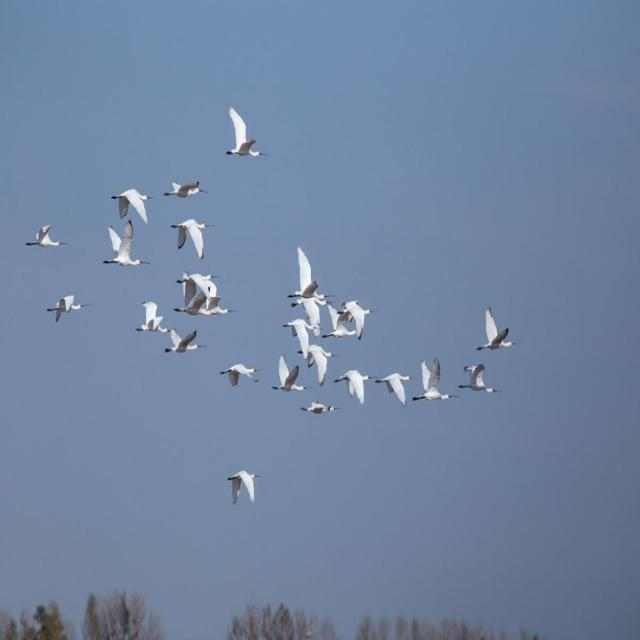bird: (101, 222, 152, 276), (227, 99, 269, 164), (277, 250, 331, 298), (100, 177, 156, 221), (413, 358, 459, 407), (222, 462, 264, 513), (477, 305, 517, 355), (162, 172, 212, 209), (164, 326, 208, 368), (215, 354, 262, 392), (456, 358, 504, 395), (16, 221, 68, 255), (44, 290, 90, 328), (376, 364, 416, 406), (130, 294, 169, 336), (333, 366, 376, 399), (273, 353, 307, 393), (172, 288, 209, 322), (176, 264, 223, 290), (325, 312, 358, 348), (348, 296, 385, 328), (280, 319, 313, 352), (298, 400, 346, 420), (288, 299, 326, 324), (207, 294, 237, 322)
